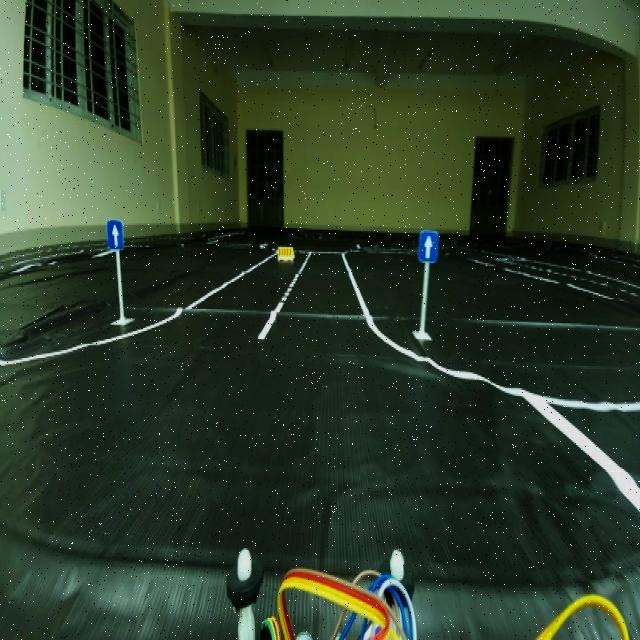onewayroad: (415, 220, 442, 268), (104, 220, 134, 255)
roadblock: (274, 242, 298, 262)
